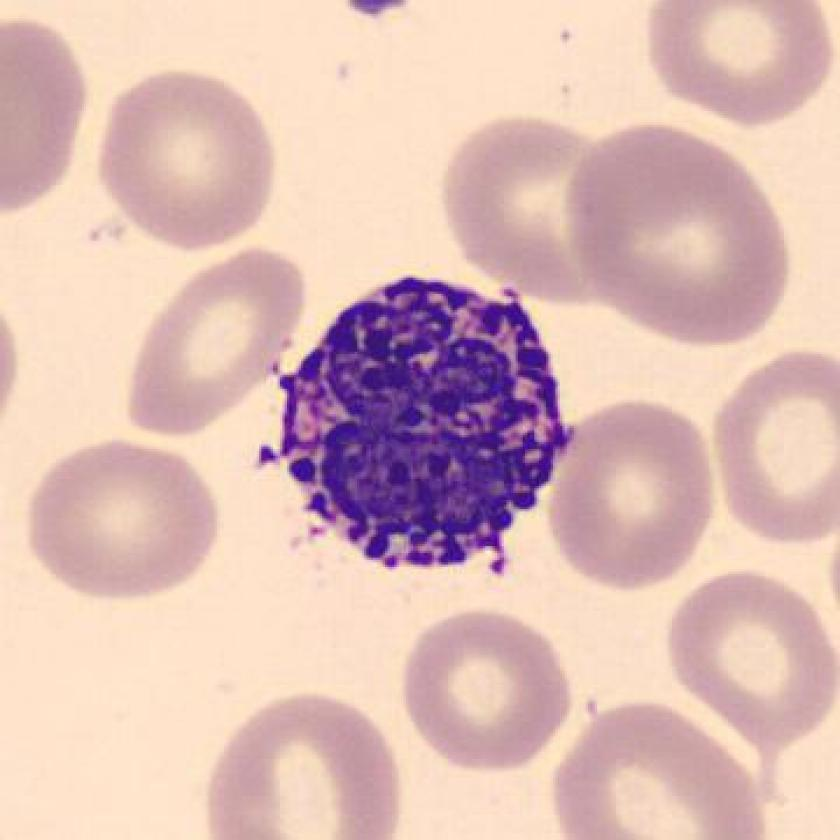basophil: (269, 270, 582, 584)
